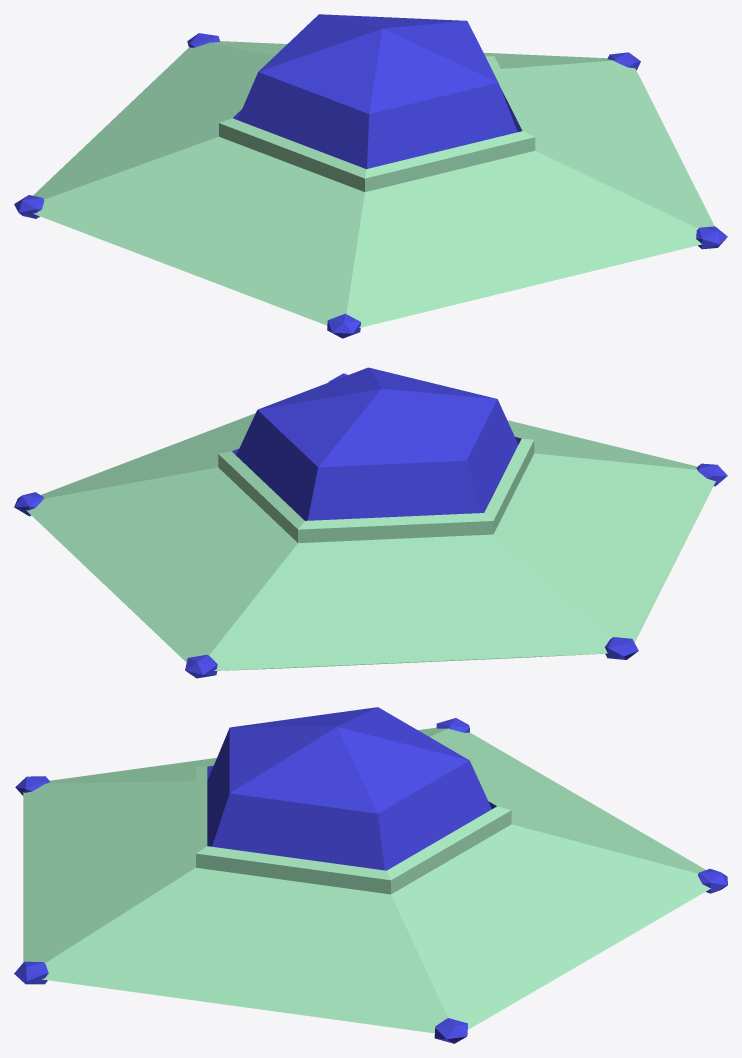
File: UFO00.gltf
3 views of the same model, one above another, from view 1: azimuth 30°, elevation 25°; view 2: azimuth 150°, elevation 25°; view 3: azimuth 270°, elevation 25° (orthographic). The views are drawn at different scales.
Visible parts, largest first — view 1: UFO; view 2: UFO; view 3: UFO.
Boxes of the visible parts, x1,y1,x2,y2 form: UFO: (14,14,727,338); UFO: (14,367,727,678); UFO: (14,707,727,1043).
Bounding box in the file's own units: 4 × 1.47 × 3.81.
